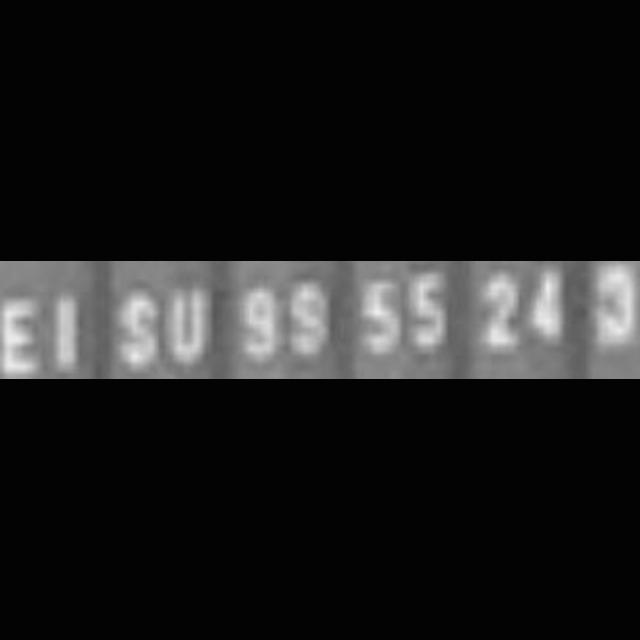2: (478, 264, 528, 362)
3: (582, 262, 638, 358)
4: (524, 261, 570, 357)
5: (353, 268, 407, 374), (408, 262, 454, 362)
9: (284, 274, 338, 380), (234, 276, 282, 379)
e: (0, 286, 50, 379)
i: (46, 286, 88, 380)
s: (113, 282, 165, 380)
u: (166, 276, 220, 378)
